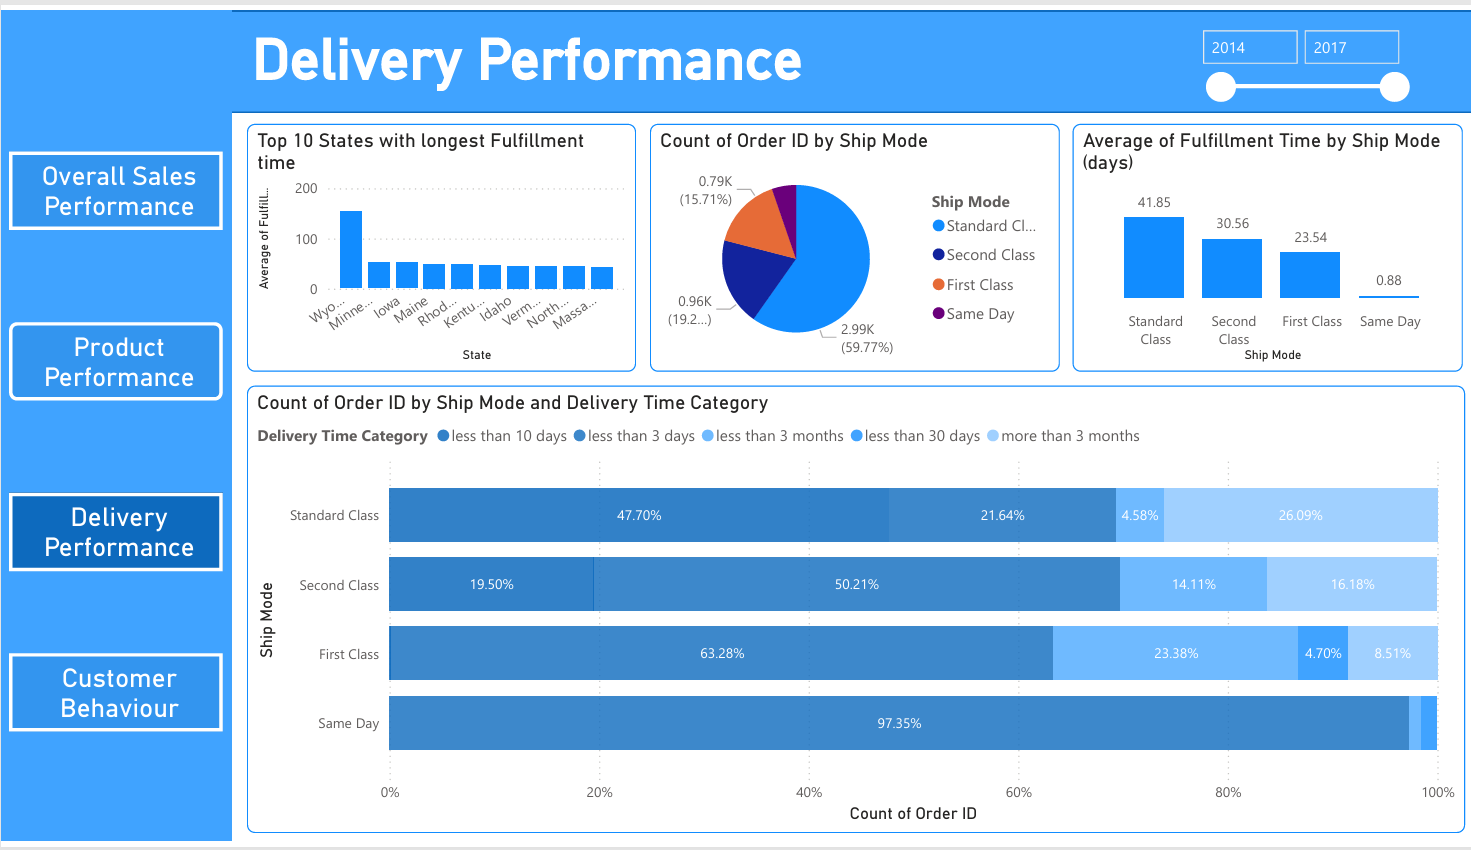

Layout of this report page (visuals, bound fields, positions):
{"tool":"powerbi","page":{"name":"Delivery","canvas":[1280,720],"ordinal":3},"visuals":[{"type":"shape","box":[0,0,1280,88.3],"z":0},{"type":"textbox","title":"Delivery Performance","box":[213.3,13.3,915,61.7],"z":1000},{"type":"shape","box":[0,0,200,720],"z":2000},{"type":"slicer","fields":{"Values":["Result 1.Year"]},"box":[1028.3,6.7,200,76.7],"z":3000},{"type":"textbox","title":"Overall Sales Performance","box":[6.7,121.7,185,68.3],"z":4000},{"type":"textbox","title":"Product Performance","box":[6.7,270,185,68.3],"z":5000},{"type":"textbox","title":"Delivery Performance","box":[6.7,418.3,185,68.3],"z":6000},{"type":"textbox","title":"Customer Behaviour","box":[6.7,556.7,185,68.3],"z":7000},{"type":"clusteredColumnChart","title":"Average of Fulfillment Time by Ship Mode (days)","fields":{"Category":["Retail_Data.Ship Mode"],"Y":["Avg(Retail_Data.Fulfillment Time)"]},"box":[928.3,98.3,338.3,215],"z":8000},{"type":"pieChart","fields":{"Y":["Count(Retail_Data.Order ID)"],"Category":["Retail_Data.Ship Mode"]},"box":[561.7,98.3,355,215],"z":9000},{"type":"clusteredColumnChart","title":"Top 10 States with longest Fulfillment time","fields":{"Category":["Retail_Data.State"],"Y":["Avg(Retail_Data.Fulfillment Time)"]},"box":[213.3,98.3,336.7,215],"z":10000},{"type":"hundredPercentStackedBarChart","fields":{"Category":["Retail_Data.Ship Mode"],"Series":["Retail_Data.Delivery Time Category"],"Y":["Count(Retail_Data.Order ID)"]},"box":[213.3,325,1055,388.3],"z":11000}]}

Visuals, with their boxes in screenshot pixels (x1, y1, x2, y2), scaled from the page's 1280x720 canvas onto the 1471x850 screenshot:
shape: bbox=[0, 0, 1470, 104]
"Delivery Performance" textbox: bbox=[245, 16, 1297, 89]
shape: bbox=[0, 0, 230, 849]
slicer - Result 1.Year: bbox=[1182, 8, 1412, 98]
"Overall Sales Performance" textbox: bbox=[8, 144, 220, 224]
"Product Performance" textbox: bbox=[8, 319, 220, 399]
"Delivery Performance" textbox: bbox=[8, 494, 220, 574]
"Customer Behaviour" textbox: bbox=[8, 657, 220, 738]
"Average of Fulfillment Time by Ship Mode (days)" clusteredColumnChart: bbox=[1067, 116, 1456, 370]
pieChart - Count(Retail_Data.Order ID) x Retail_Data.Ship Mode: bbox=[646, 116, 1053, 370]
"Top 10 States with longest Fulfillment time" clusteredColumnChart: bbox=[245, 116, 632, 370]
hundredPercentStackedBarChart - Retail_Data.Ship Mode x Retail_Data.Delivery Time Category: bbox=[245, 384, 1458, 842]
